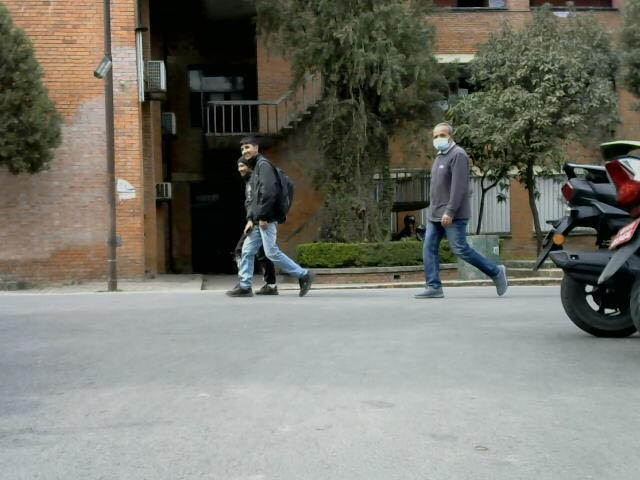Electrical Pole: (86, 0, 146, 306)
Motorcycle: (537, 139, 640, 354)
Person: (409, 114, 519, 301), (236, 138, 326, 302)
Road: (1, 296, 640, 480)
Tree: (275, 0, 437, 257), (474, 13, 619, 137), (0, 1, 63, 182)
